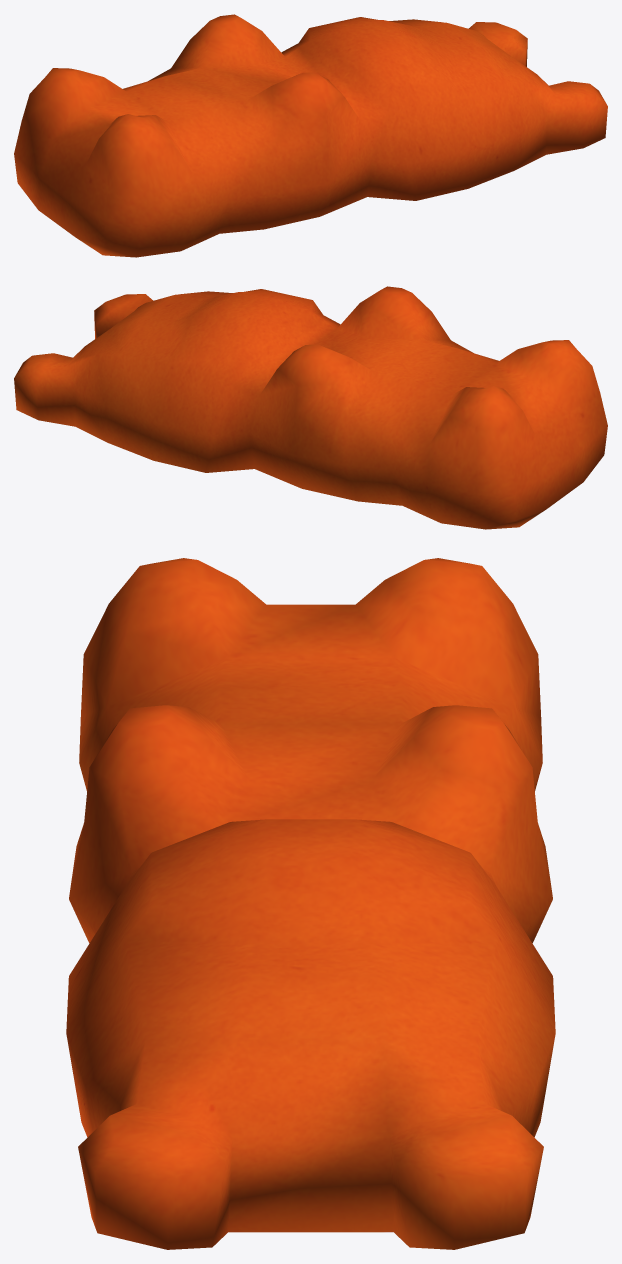
File: CHP_MOD_Gummy_Bear_red.fbx
3 views of the same model, one above another, from view 1: azimuth 30°, elevation 25°; view 2: azimuth 150°, elevation 25°; view 3: azimuth 270°, elevation 25° (orthographic). The views are drawn at different scales.
Parts seen in each view (by area): view 1: CHP_MOD_Gummy_bear_red; view 2: CHP_MOD_Gummy_bear_red; view 3: CHP_MOD_Gummy_bear_red.
Boxes of the visible parts, left/top/right/bottom form: CHP_MOD_Gummy_bear_red: left=14, top=14, right=607, bottom=257; CHP_MOD_Gummy_bear_red: left=14, top=286, right=607, bottom=529; CHP_MOD_Gummy_bear_red: left=66, top=558, right=555, bottom=1249.
Size of the model in its own units: 0.9178 by 0.2627 by 0.3825.
